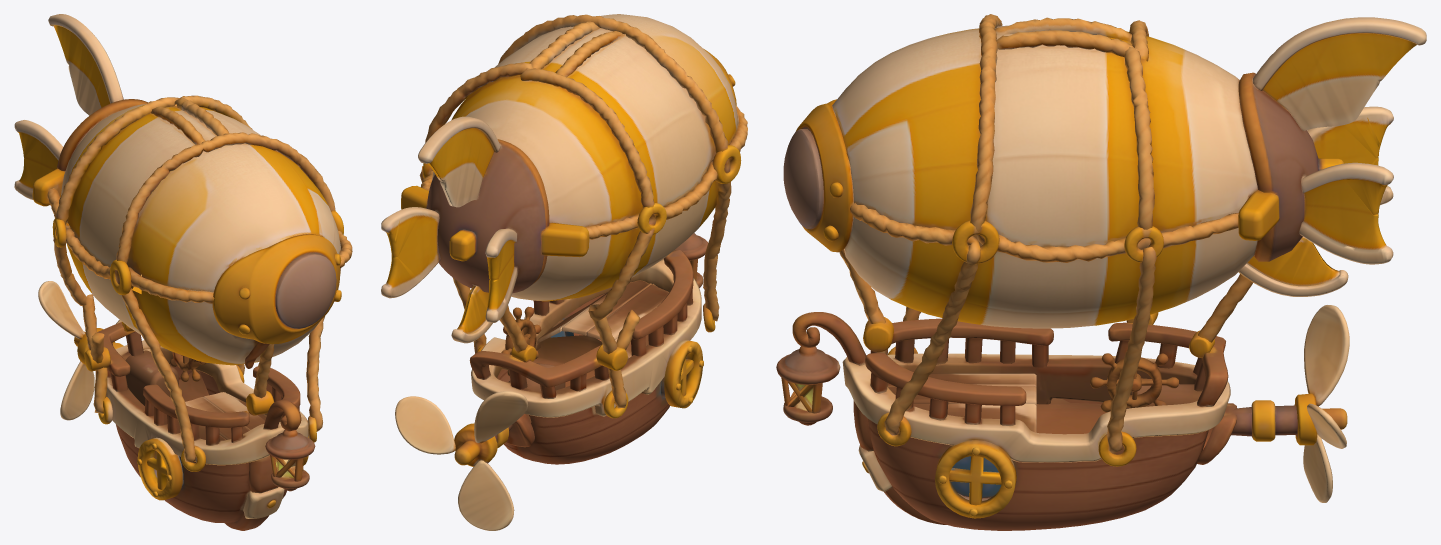
The model's file is C05_airship.fbx.
The picture shows the model from 3 angles, left to right: view 1: azimuth 30°, elevation 25°; view 2: azimuth 150°, elevation 25°; view 3: azimuth 270°, elevation 25°; orthographic projection. The views are drawn at different scales.
Visible parts, largest first — view 1: tripo_node_251b4df2; view 2: tripo_node_251b4df2; view 3: tripo_node_251b4df2.
Part boxes in pixels (x1=…): tripo_node_251b4df2: x1=14, y1=14, x2=352, y2=530; tripo_node_251b4df2: x1=381, y1=14, x2=747, y2=530; tripo_node_251b4df2: x1=776, y1=14, x2=1426, y2=530.
Bounding box in the file's own units: 0.519 × 0.854 × 0.9995.
